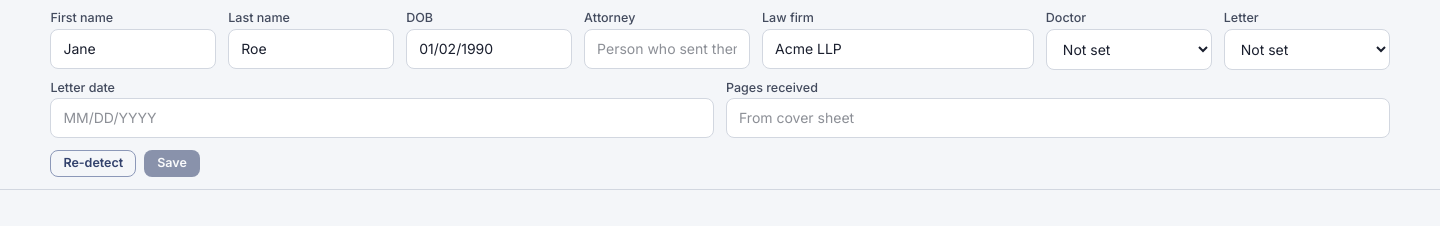
Scenario: Pages received against the file (#330) › shows the warning beside the field, naming both numbers
Type "500" into the field labelled "Pages received" at (1058, 118), box [726,98,1390,138]
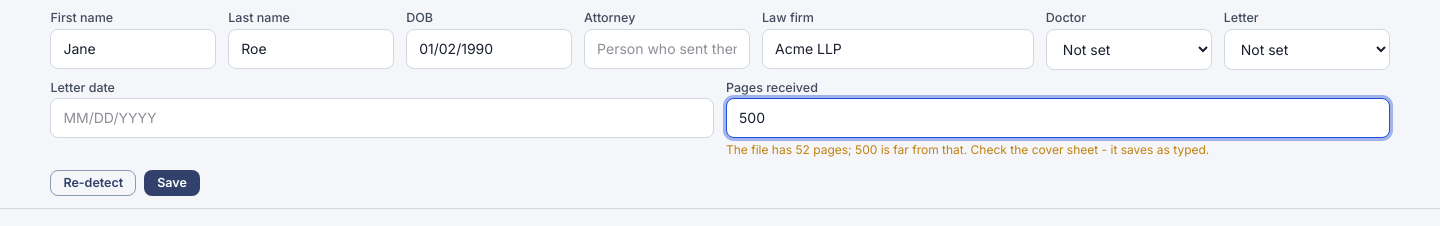
Check: the text "52" is shown, box [726,142,1209,157]
Check: the text "500" is shown, box [726,142,1209,157]
